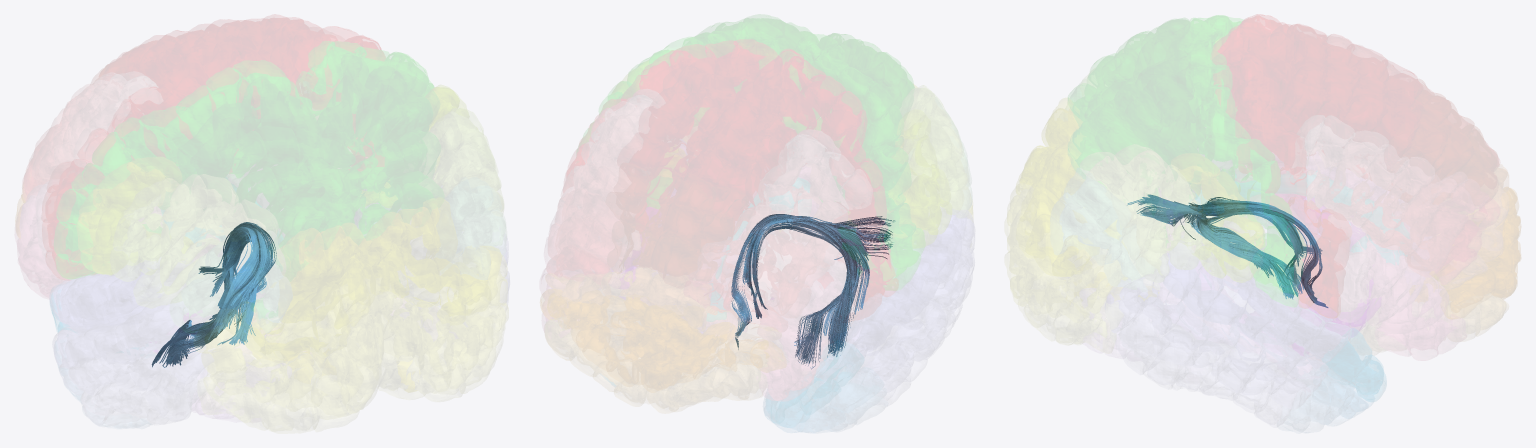
File: F_L.glb_glass.glb
3 renders of one model, left to right at view 1: azimuth 30°, elevation 25°; view 2: azimuth 150°, elevation 25°; view 3: azimuth 270°, elevation 25°, orthographic. The views are drawn at different scales.
Visible parts, largest first — view 1: YBA_Glass_Colour, tracts; view 2: YBA_Glass_Colour, tracts; view 3: YBA_Glass_Colour, tracts.
Boxes of the visible parts, bbox=[...] form: YBA_Glass_Colour: bbox=[16, 18, 509, 431]; tracts: bbox=[151, 222, 276, 367]; YBA_Glass_Colour: bbox=[541, 18, 974, 432]; tracts: bbox=[731, 214, 895, 369]; YBA_Glass_Colour: bbox=[1007, 15, 1520, 432]; tracts: bbox=[1127, 194, 1328, 307].
Size of the model in its own units: 145 by 135 by 181.
